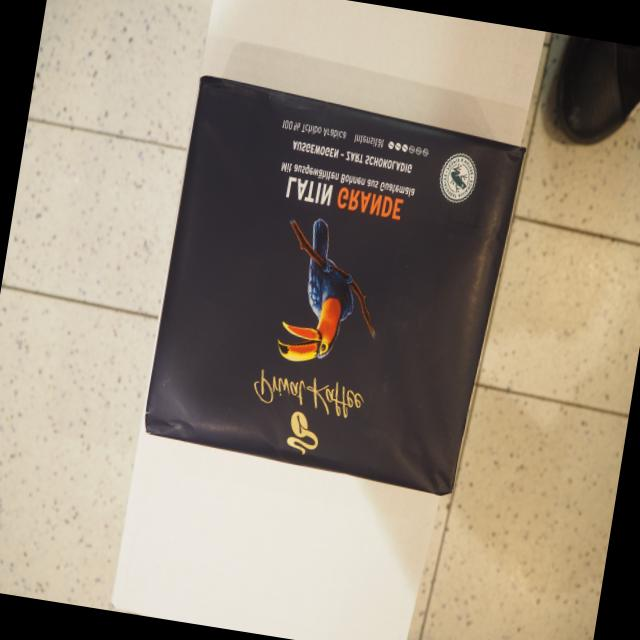LG Gemahlen: (138, 71, 530, 499)
